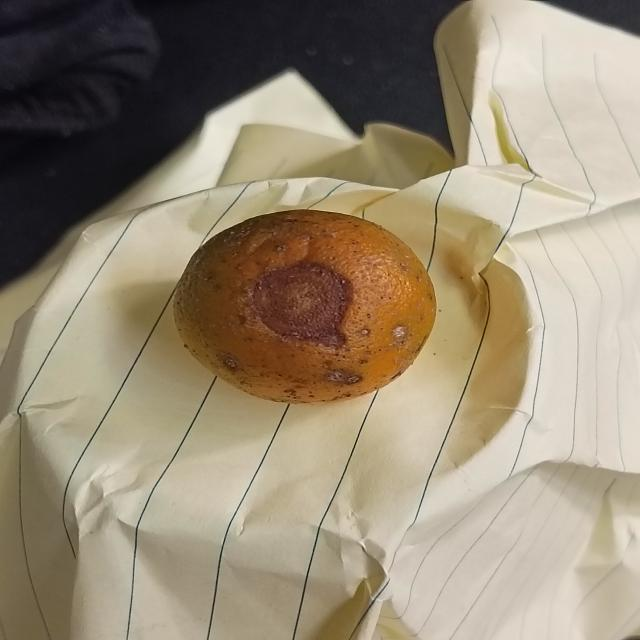black spot: (168, 206, 445, 410)
